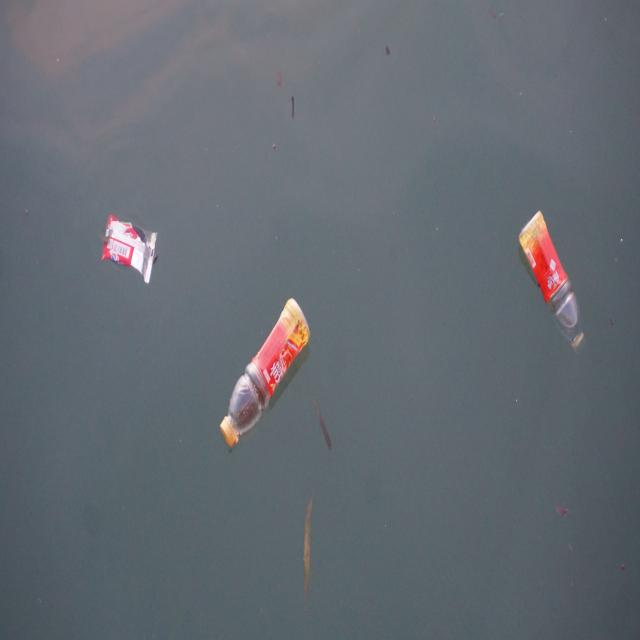Botol Plastik: (217, 293, 312, 451), (516, 213, 595, 355)
Bungkus Makanan: (97, 208, 165, 291)
